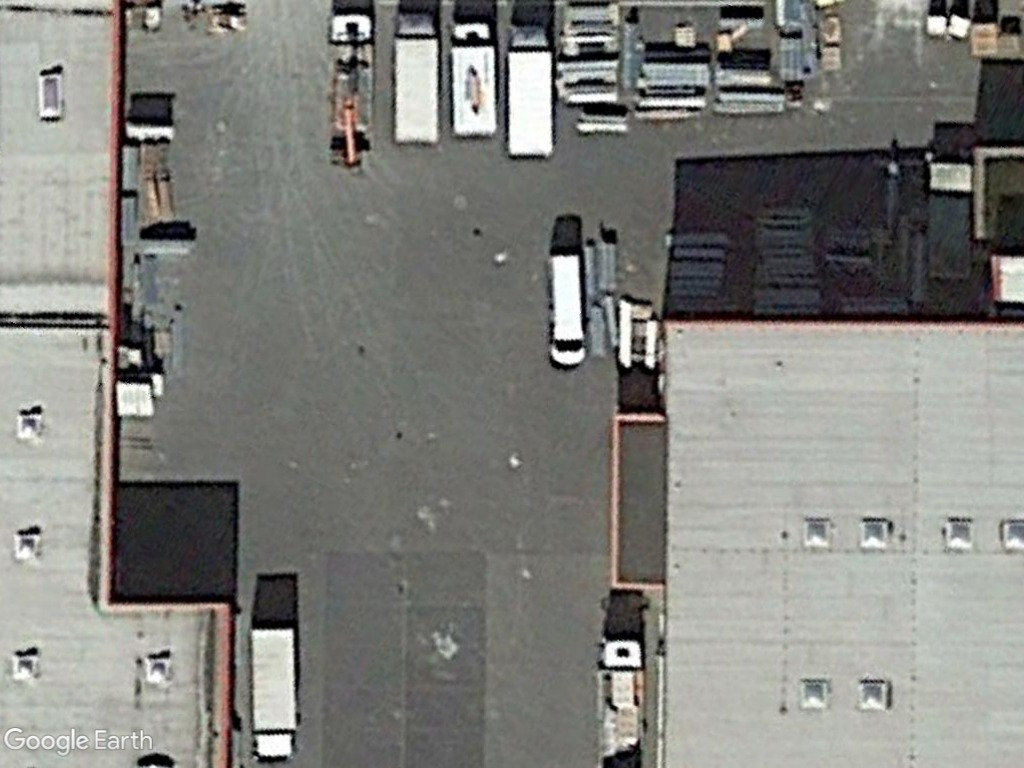truck: (387, 1, 451, 150), (244, 623, 302, 764), (504, 20, 558, 164), (449, 15, 496, 146)
van: (540, 247, 589, 371)
